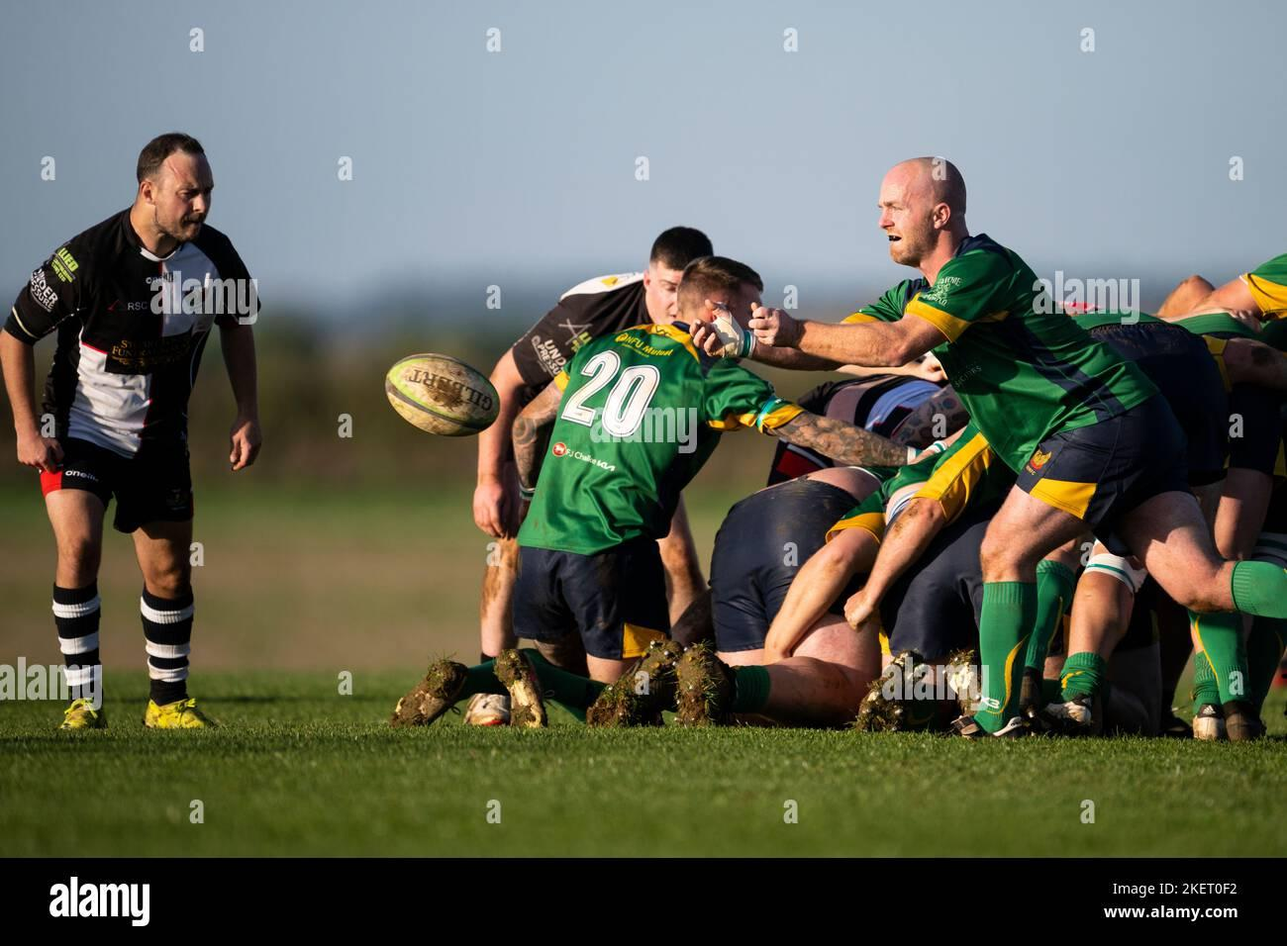ballon_rugby: (382, 354, 504, 443)
